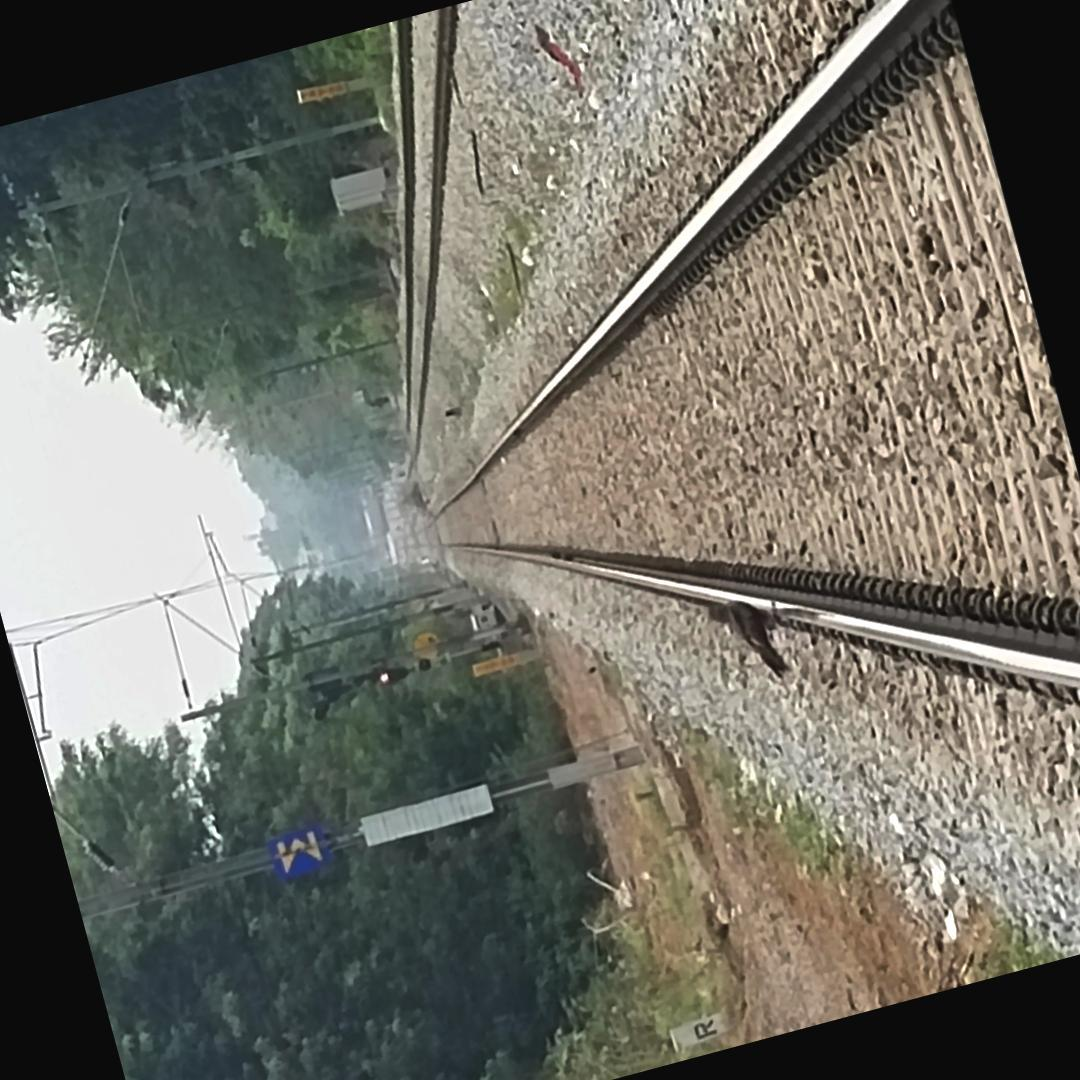track: (402, 0, 1080, 788)
